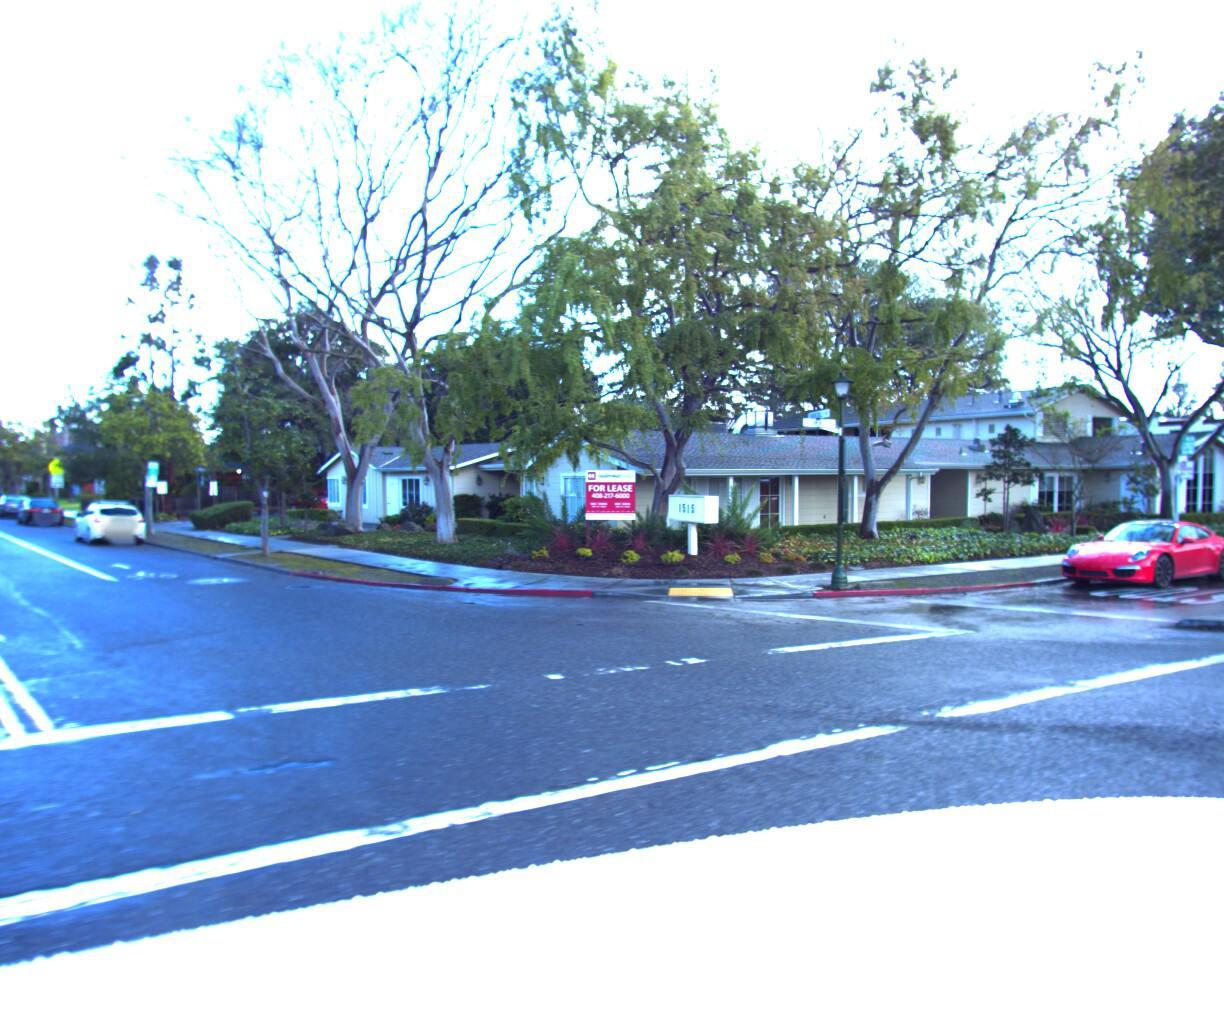car: (1035, 519, 1224, 604), (72, 506, 154, 554), (18, 501, 72, 534), (0, 499, 39, 526), (1215, 493, 1224, 580), (0, 497, 15, 519)
